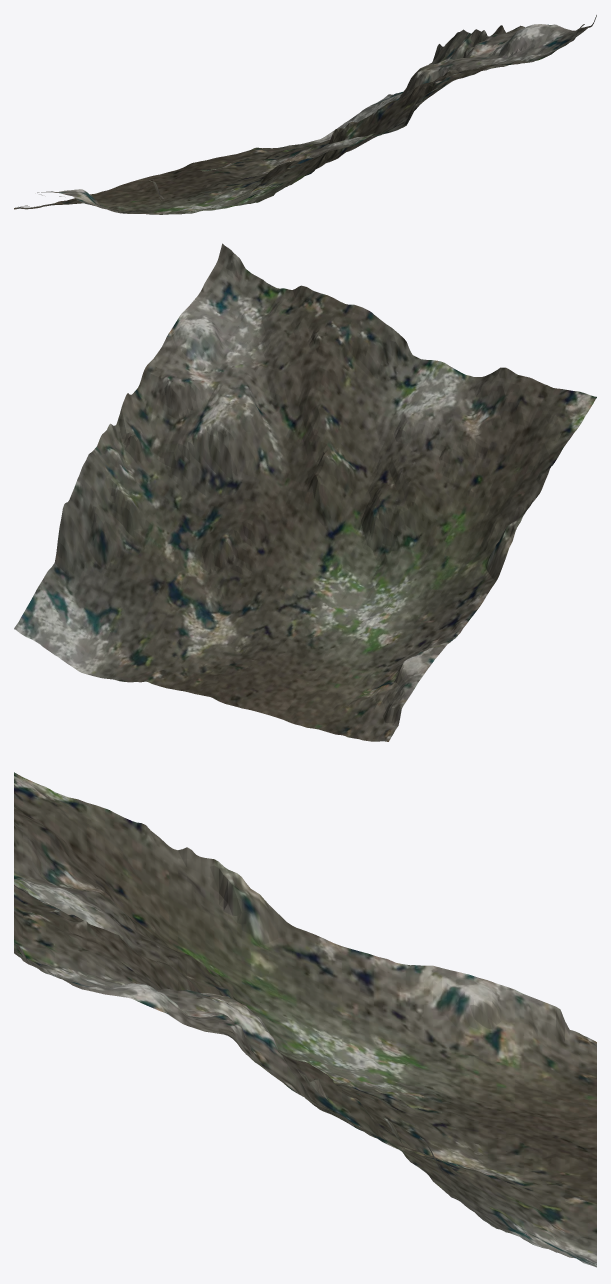
The picture shows the model from 3 angles, top to bottom: view 1: azimuth 30°, elevation 25°; view 2: azimuth 150°, elevation 25°; view 3: azimuth 270°, elevation 25°; orthographic projection. The views are drawn at different scales.
Bounding box in the file's own units: 250 × 167 × 241.
Materials: 1 (1 with a texture image).
